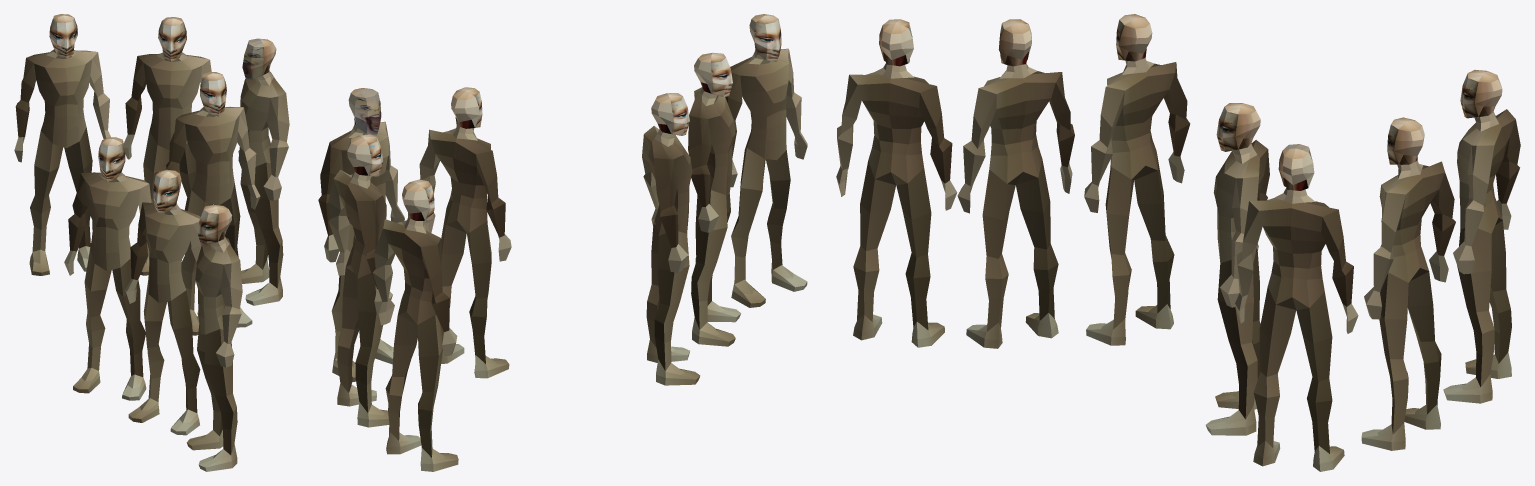
The model's file is patungserem.fbx.
The picture shows the model from 3 angles, left to right: view 1: azimuth 30°, elevation 25°; view 2: azimuth 150°, elevation 25°; view 3: azimuth 270°, elevation 25°; orthographic projection. The views are drawn at different scales.
Parts seen in each view (by area): view 1: patung gudang.023, patung gudang.027, patung gudang, patung gudang.025, patung gudang.024, patung gudang.026, patung gudang.028; view 2: patung gudang.023, patung gudang.025, patung gudang.024, patung gudang.028, patung gudang.027, patung gudang, patung gudang.026; view 3: patung gudang.026, patung gudang.025, patung gudang, patung gudang.027, patung gudang.028, patung gudang.023, patung gudang.024.
Boxes of the visible parts, x1,y1,x2,y2 form: patung gudang.023: (14, 14, 110, 275); patung gudang.027: (64, 137, 152, 400); patung gudang: (125, 169, 201, 435); patung gudang.025: (186, 205, 242, 471); patung gudang.024: (166, 72, 260, 335); patung gudang.026: (238, 38, 289, 305); patung gudang.028: (123, 17, 211, 275); patung gudang.023: (372, 179, 458, 471); patung gudang.025: (725, 14, 807, 307); patung gudang.024: (419, 87, 511, 378); patung gudang.028: (328, 134, 392, 427); patung gudang.027: (642, 93, 700, 385); patung gudang: (688, 52, 740, 346); patung gudang.026: (318, 88, 404, 382); patung gudang.026: (1235, 144, 1358, 471); patung gudang.025: (836, 19, 957, 347); patung gudang: (957, 19, 1074, 348); patung gudang.027: (1084, 14, 1190, 345); patung gudang.028: (1361, 117, 1455, 450); patung gudang.023: (1443, 70, 1520, 403); patung gudang.024: (1205, 103, 1269, 435).
Size of the model in its own units: 317 by 282 by 560.
